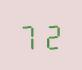seven: (19, 20, 40, 50)
two: (41, 19, 62, 49)
